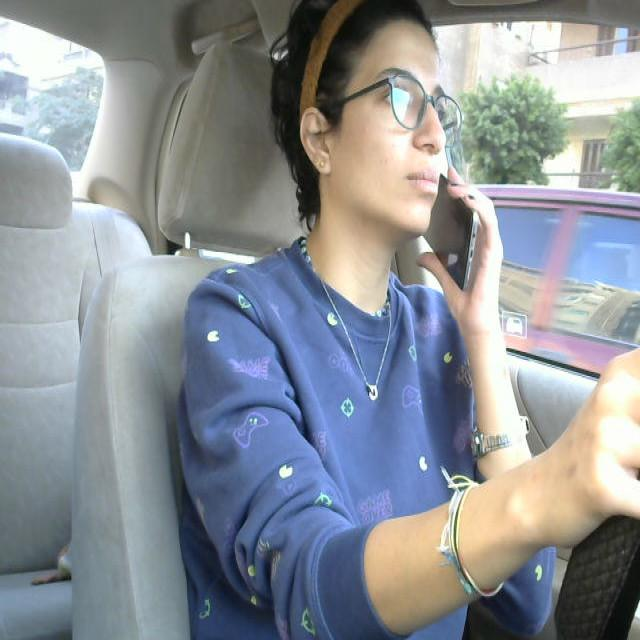mobile use: (418, 176, 489, 300)
